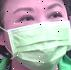with_mask: (2, 2, 71, 70)
